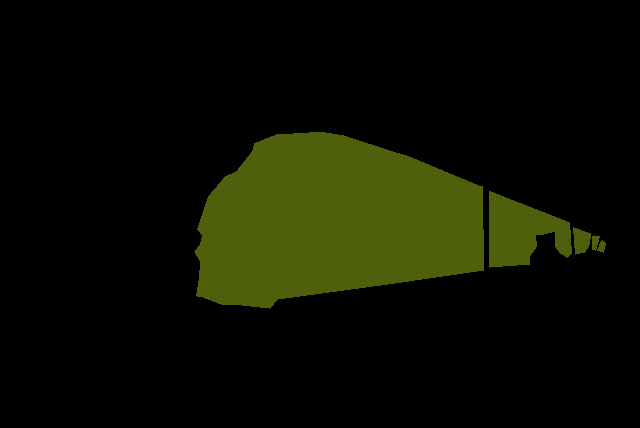Train: (194, 132, 606, 309)
